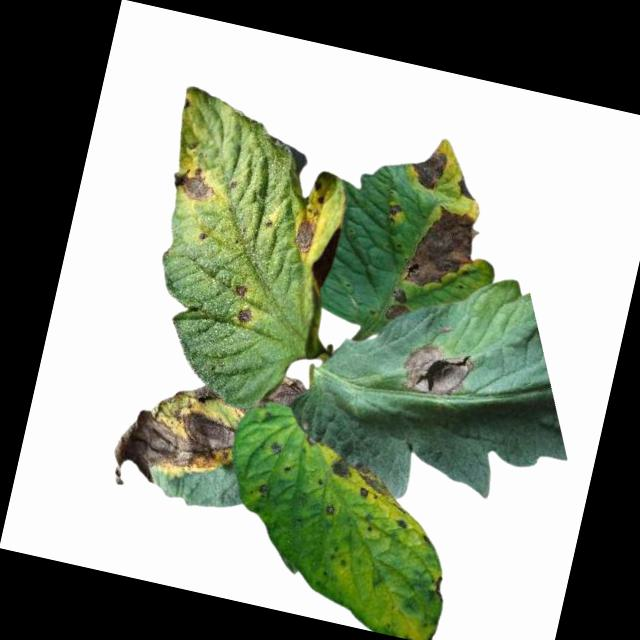Early_blight: (105, 368, 246, 508), (401, 201, 485, 298), (397, 338, 477, 409), (349, 458, 404, 502), (166, 161, 219, 206), (260, 370, 311, 416), (407, 145, 451, 194), (290, 212, 322, 260), (382, 287, 416, 327), (325, 453, 356, 481), (451, 175, 479, 204), (385, 201, 405, 225), (236, 303, 254, 328), (254, 482, 272, 501), (267, 440, 286, 457), (235, 282, 252, 299), (325, 504, 337, 517)
